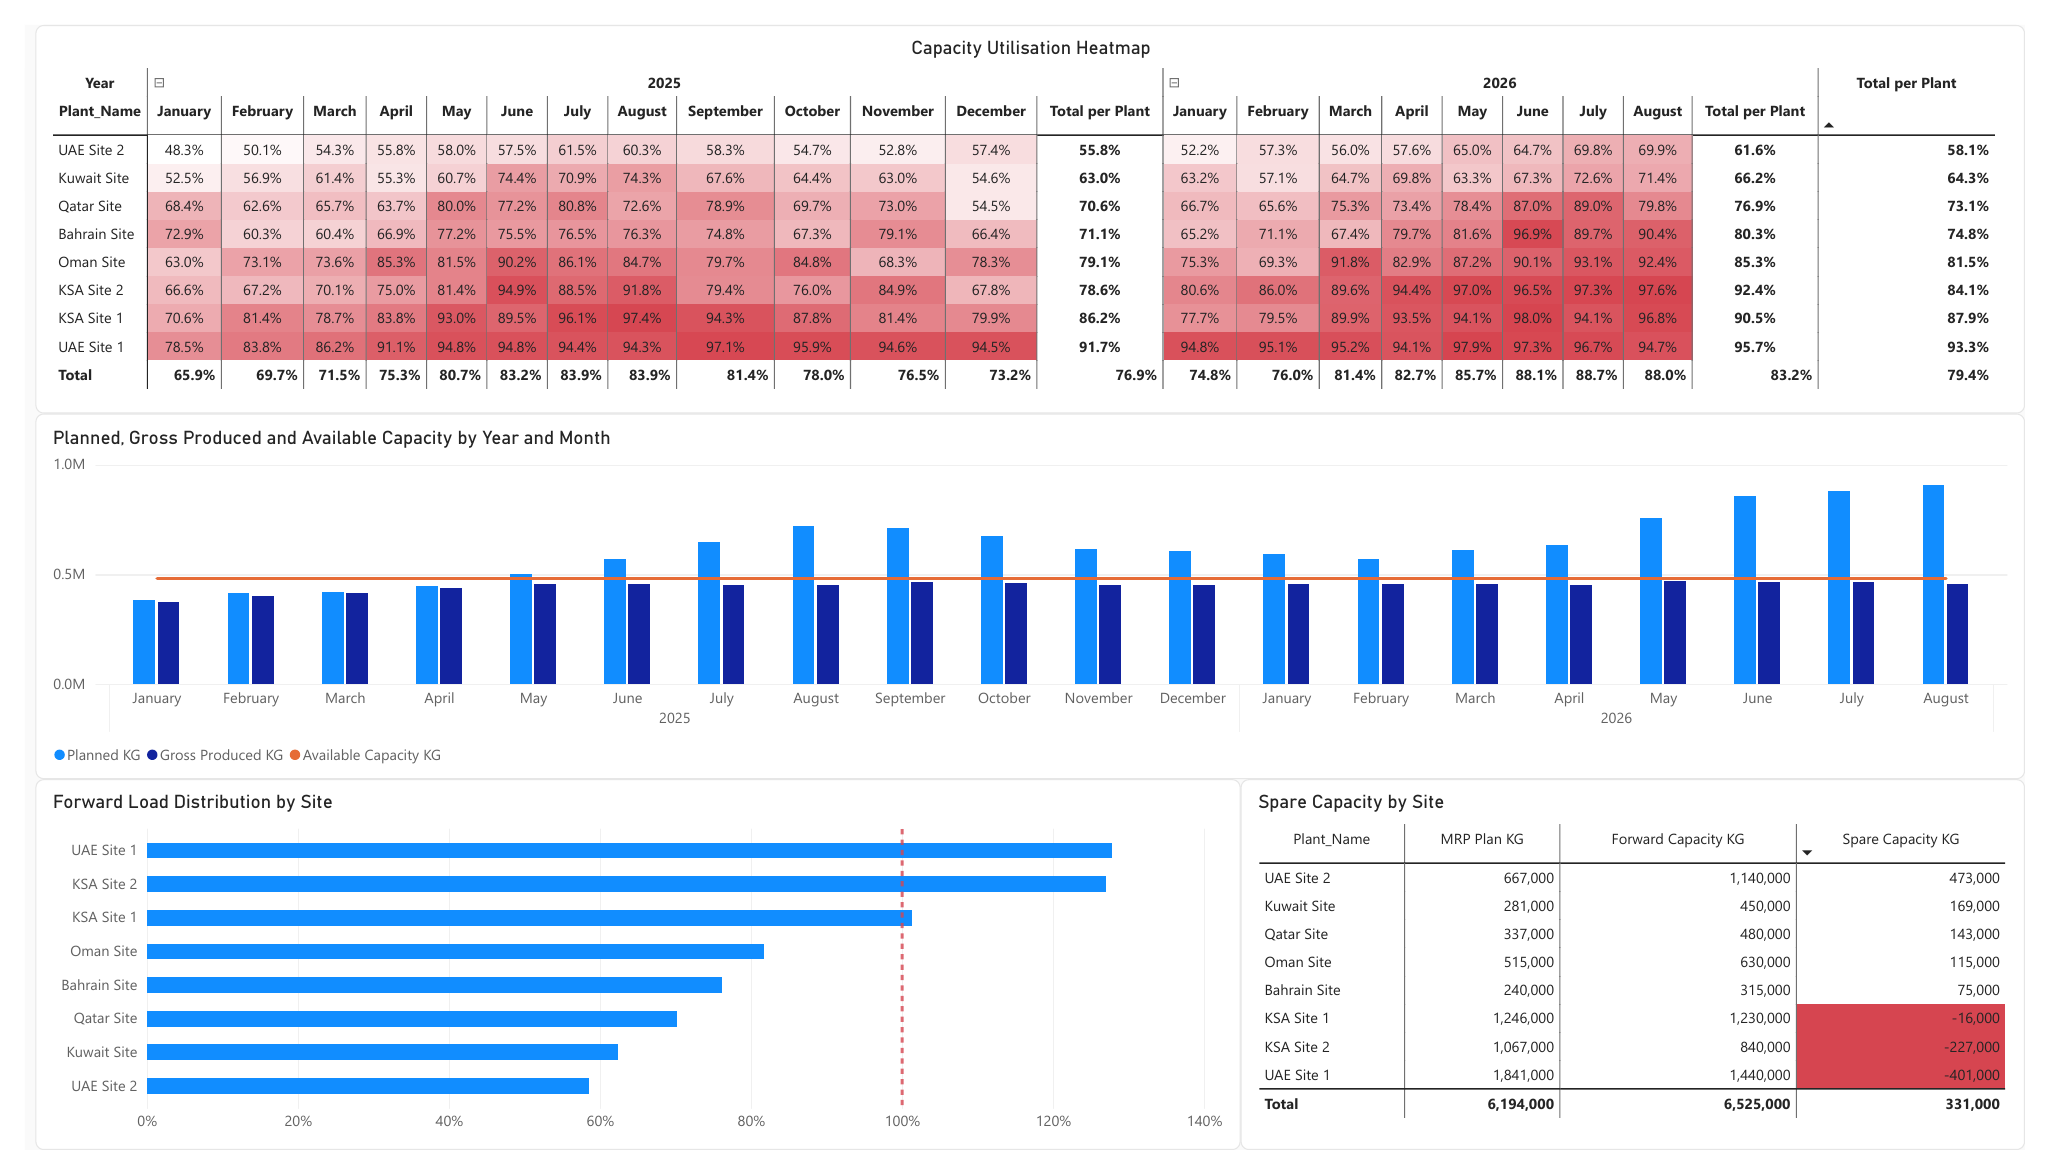

The page's visual inventory and layout, read from the dashboard file:
{"tool":"powerbi","page":{"name":"Capacity & Forward Plan","canvas":[1920,1080],"ordinal":1},"visuals":[{"type":"pivotTable","title":"Capacity Utilisation Heatmap","fields":{"Columns":["Dim_Date.Year_Month.Variation.Date Hierarchy.Year","Dim_Date.Year_Month.Variation.Date Hierarchy.Month"],"Rows":["Dim_Plant.Plant_Name"],"Values":["_Measures.Capacity Utilisation %"]},"box":[9.9,0,1910.1,372.6],"z":0},{"type":"lineClusteredColumnComboChart","title":"Planned, Gross Produced and Available Capacity by Year and Month","fields":{"Category":["Dim_Date.Year_Month.Variation.Date Hierarchy.Year","Dim_Date.Year_Month.Variation.Date Hierarchy.Month"],"Y":["_Measures.Planned KG","_Measures.Gross Produced KG"],"Y2":["_Measures.Available Capacity KG"]},"box":[9.9,372.6,1910.1,351.9],"z":1000},{"type":"clusteredBarChart","title":"Forward Load Distribution by Site","fields":{"Category":["Dim_Plant.Plant_Name"],"Y":["_Measures.Forward Load %"]},"box":[9.9,724.4,1157.1,355.8],"z":2000},{"type":"tableEx","title":"Spare Capacity by Site","fields":{"Values":["Dim_Plant.Plant_Name","_Measures.MRP Plan KG","_Measures.Forward Capacity KG","_Measures.Spare Capacity KG"]},"box":[1167,724.4,753,355.8],"z":3000}]}

Visuals, with their boxes in screenshot pixels (x1, y1, x2, y2), scaled from the page's 1920x1080 canvas onto the 2050x1175 screenshot:
"Capacity Utilisation Heatmap" pivotTable: <bbox>11, 0, 2049, 405</bbox>
"Planned, Gross Produced and Available Capacity by Year and Month" lineClusteredColumnComboChart: <bbox>11, 405, 2049, 788</bbox>
"Forward Load Distribution by Site" clusteredBarChart: <bbox>11, 788, 1246, 1174</bbox>
"Spare Capacity by Site" tableEx: <bbox>1246, 788, 2049, 1174</bbox>
